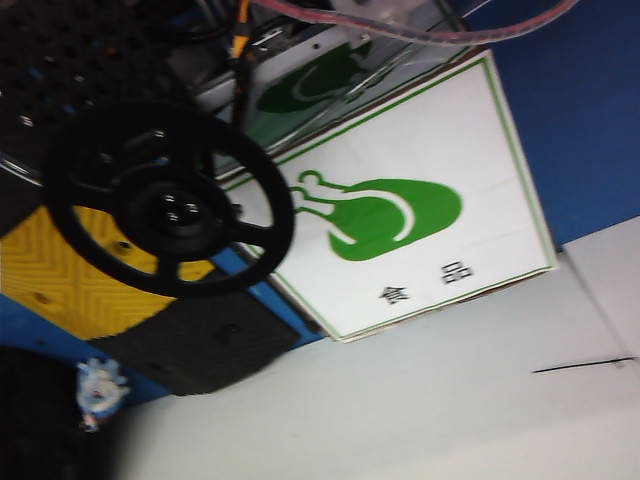Cube_food: (286, 168, 484, 311)
